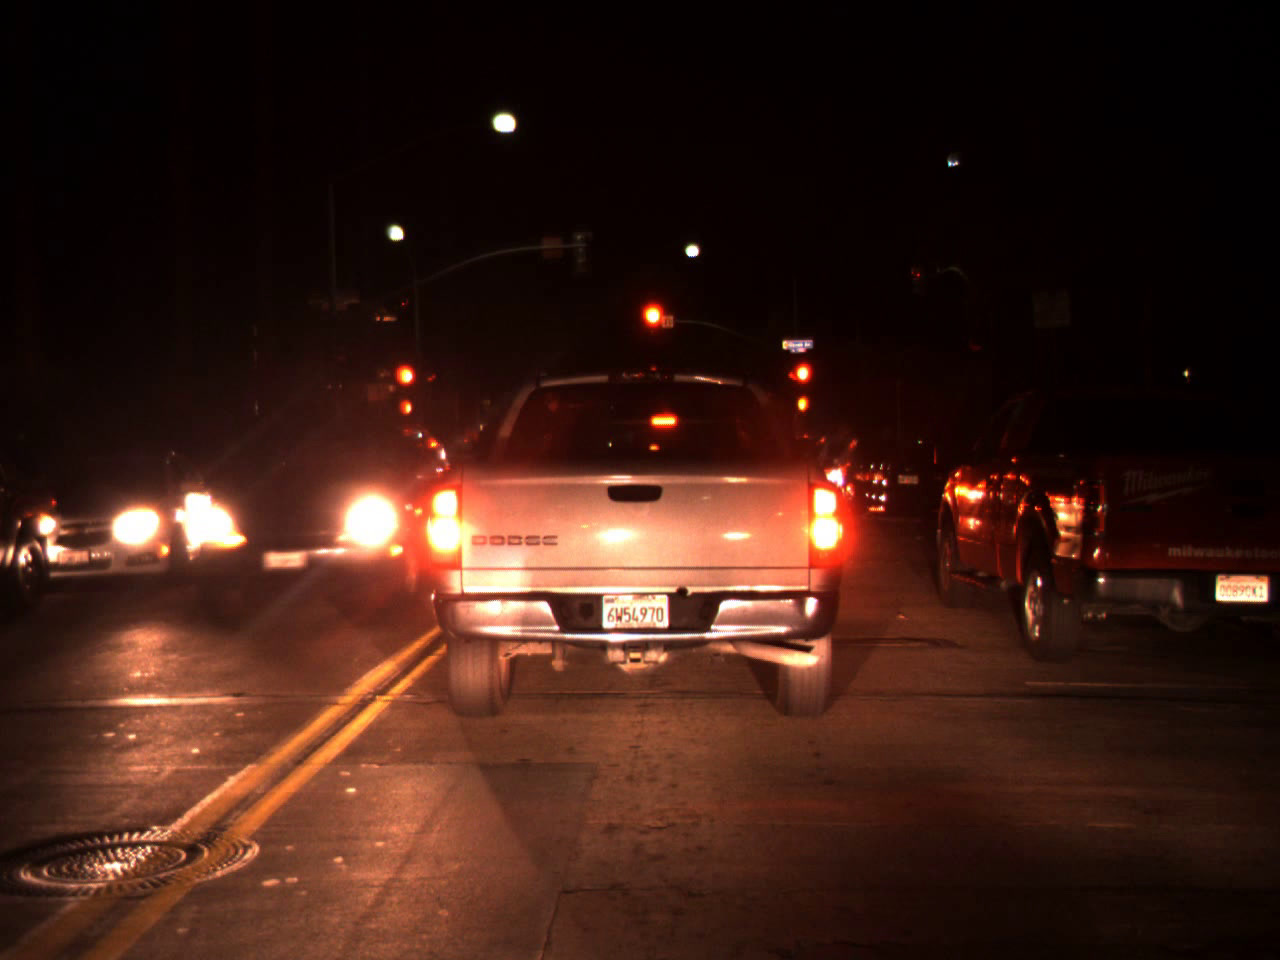stop: (637, 298, 671, 360), (784, 359, 817, 407), (392, 361, 417, 412)
